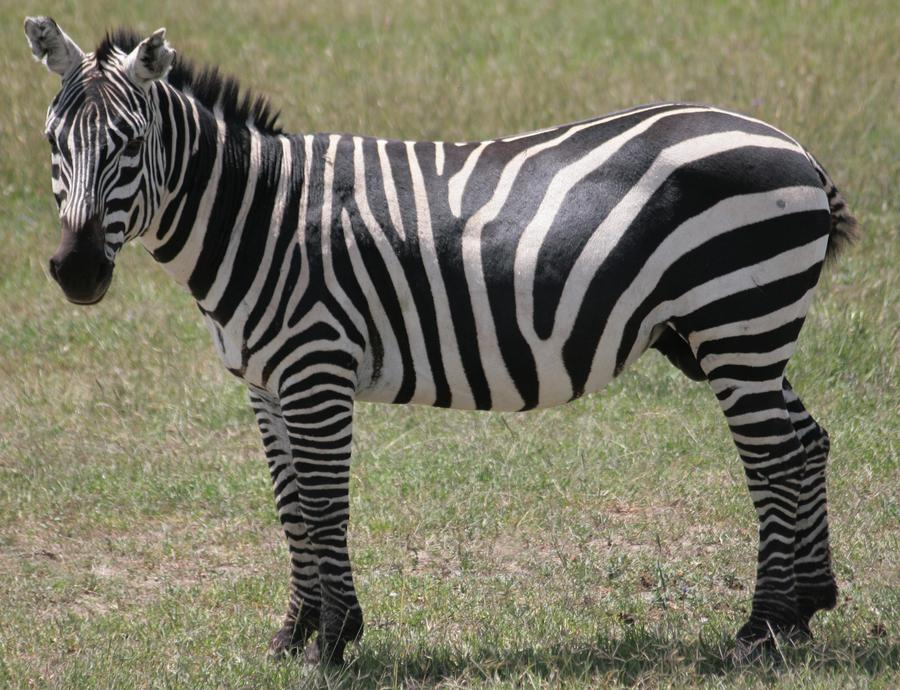zebra_plains: (219, 117, 805, 353)
